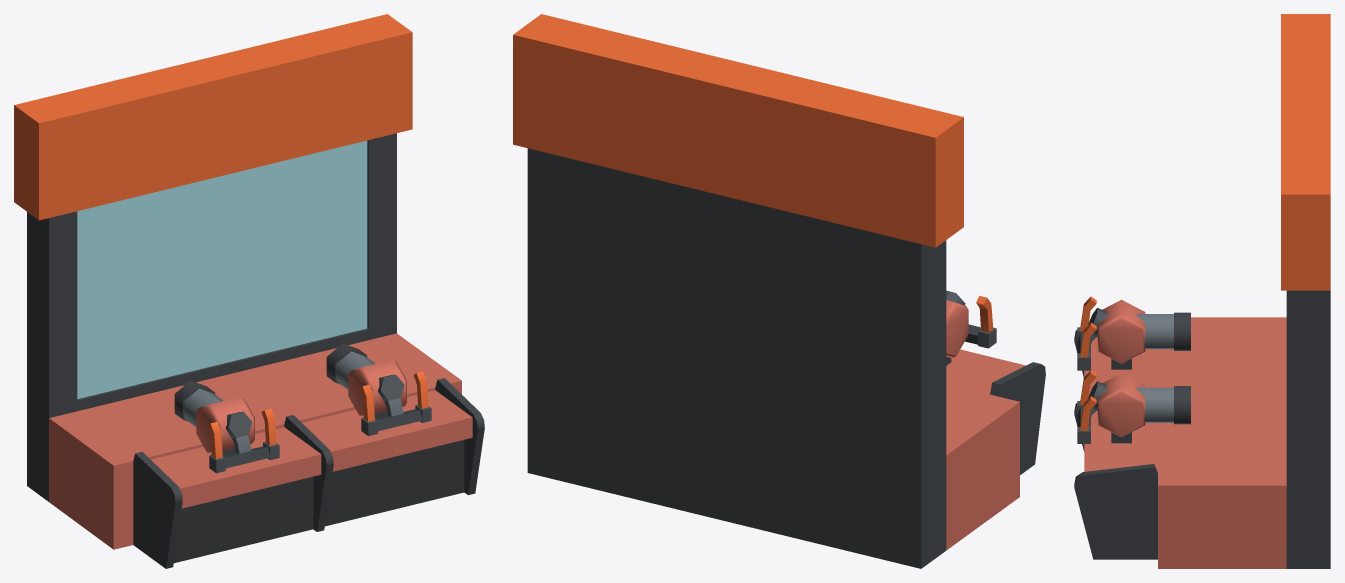
File: SM_GameArea_RecreationalMachines_07.fbx
The picture shows the model from 3 angles, left to right: view 1: azimuth 30°, elevation 25°; view 2: azimuth 150°, elevation 25°; view 3: azimuth 270°, elevation 25°; orthographic projection. The views are drawn at different scales.
Visible parts, largest first — view 1: SM_GameArea_RecreationalMachines_07; view 2: SM_GameArea_RecreationalMachines_07; view 3: SM_GameArea_RecreationalMachines_07.
Part boxes in pixels (box(x1,y1,x2,y2)): SM_GameArea_RecreationalMachines_07: box(14, 14, 484, 568); SM_GameArea_RecreationalMachines_07: box(513, 14, 1045, 568); SM_GameArea_RecreationalMachines_07: box(1074, 14, 1330, 568).
Size of what is drawn, in the model's own units: 1050 by 1031 by 630.
